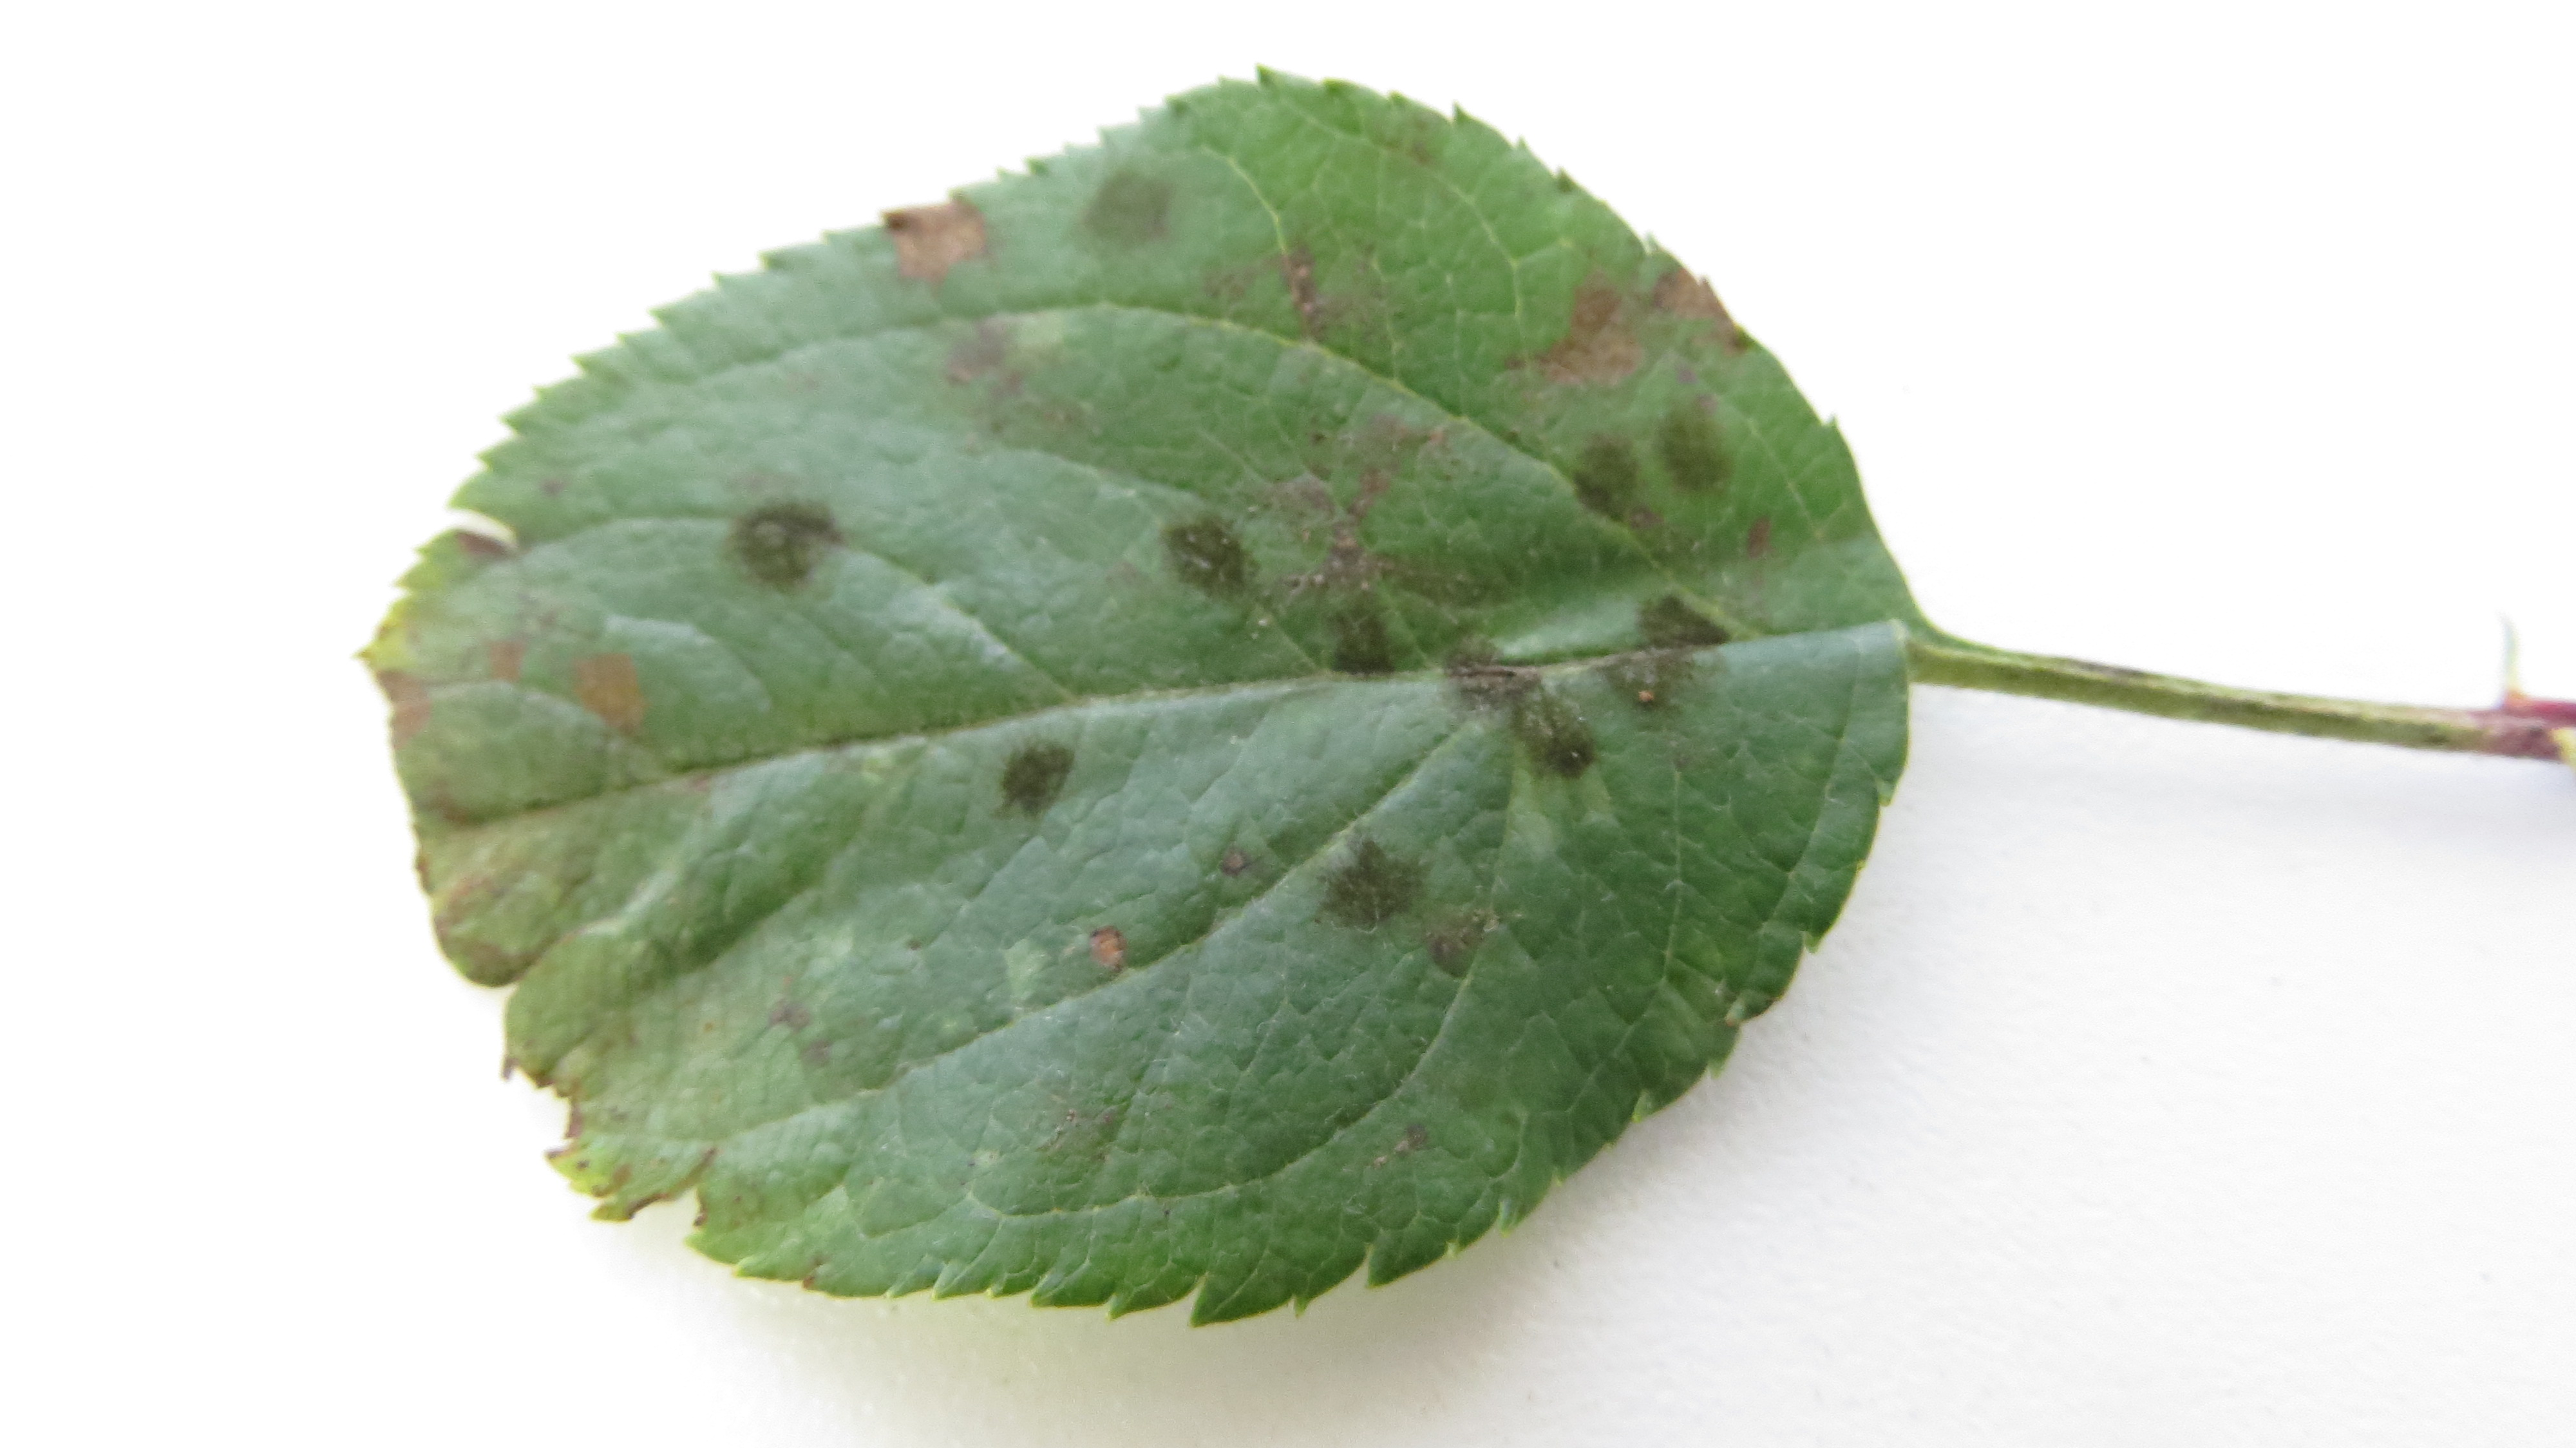sarna: (1283, 407, 1472, 611), (1426, 625, 1608, 798), (1247, 235, 1421, 361), (708, 476, 869, 609), (1610, 575, 1737, 740), (876, 182, 1024, 310), (1497, 274, 1645, 400), (1150, 496, 1272, 641), (947, 315, 1077, 448), (1647, 248, 1771, 382), (1311, 821, 1424, 929), (1079, 150, 1184, 267), (977, 720, 1085, 821), (1652, 377, 1736, 506), (1564, 435, 1660, 545), (573, 659, 672, 763), (1307, 597, 1401, 701), (1076, 899, 1157, 984), (1421, 905, 1497, 990), (1205, 821, 1260, 890)
